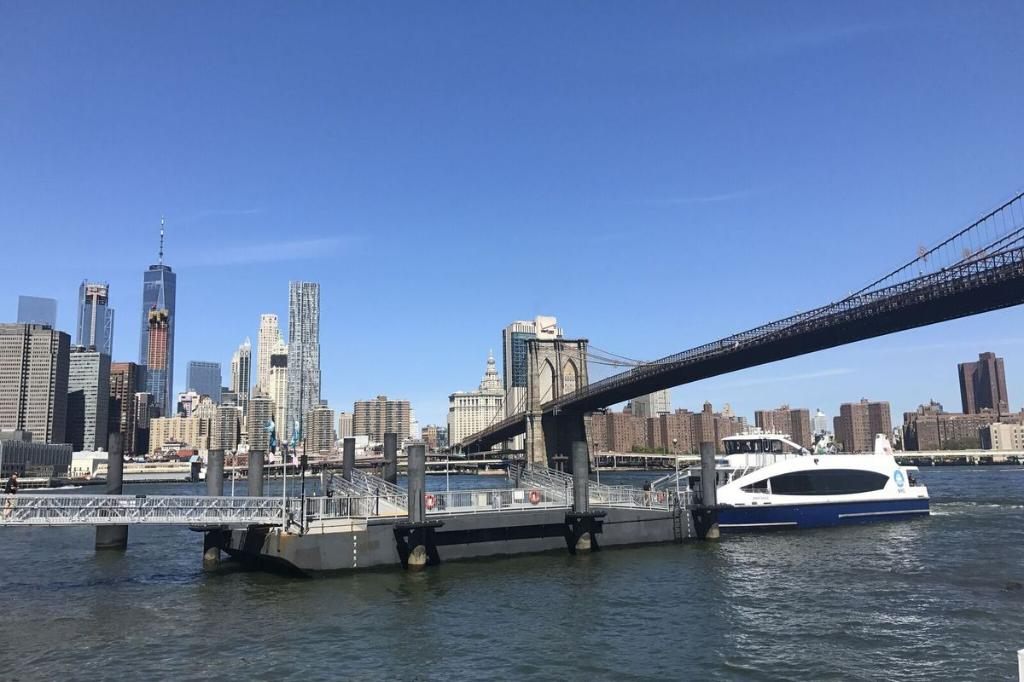PassengerShip: (697, 408, 935, 538)
